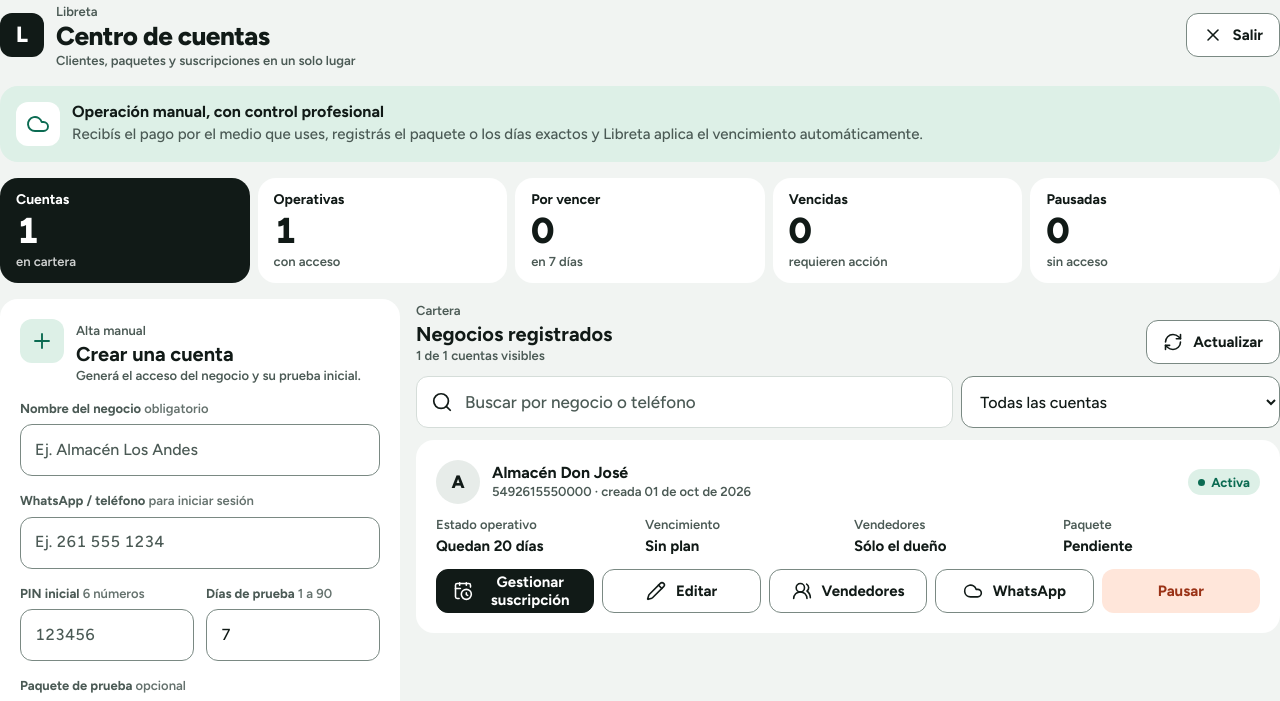
Test: Panel admin · vendedores › agrega un vendedor y muestra su acceso para mandarlo
Click the button "Vendedores": (848, 591) [769,569,927,613]
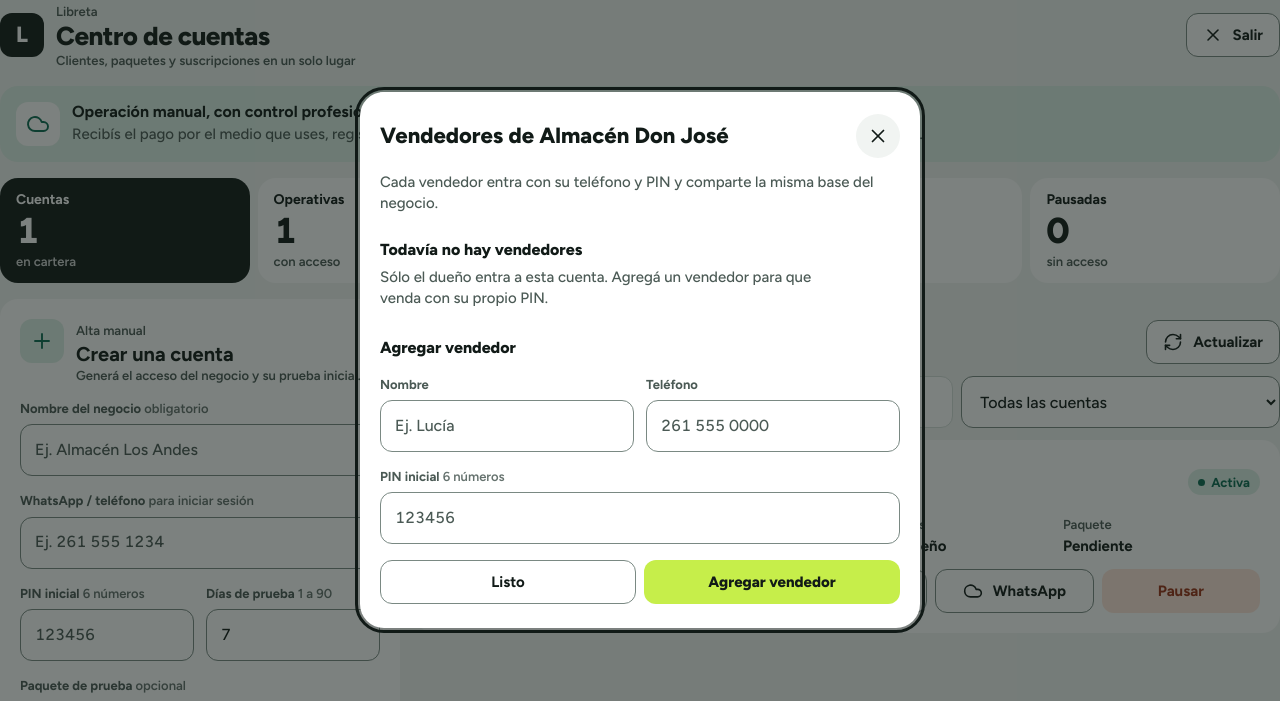
Expected: the text "Sólo el dueño entra" is shown, [380,268,811,307]
In the field labelled "Nombre": (507, 426) [380,400,634,452], type "Lucía"
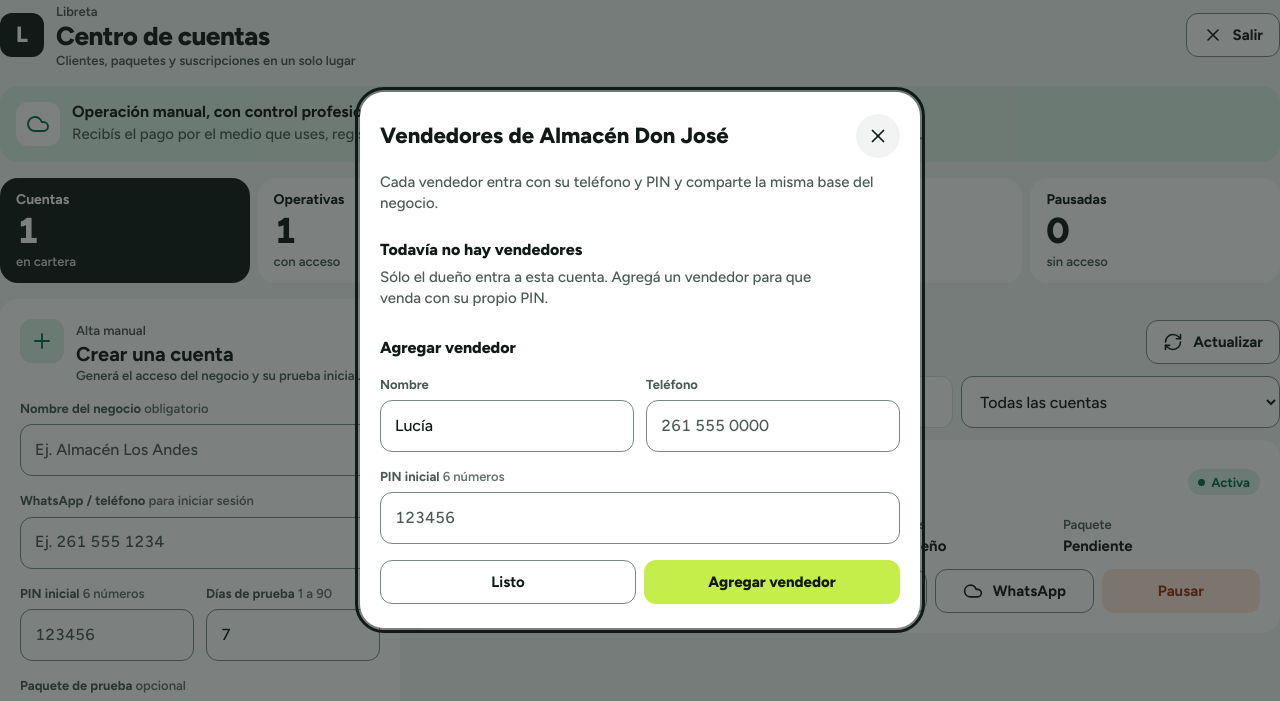
In the field labelled "Teléfono": (773, 426) [646,400,900,452], type "261 555 1111"
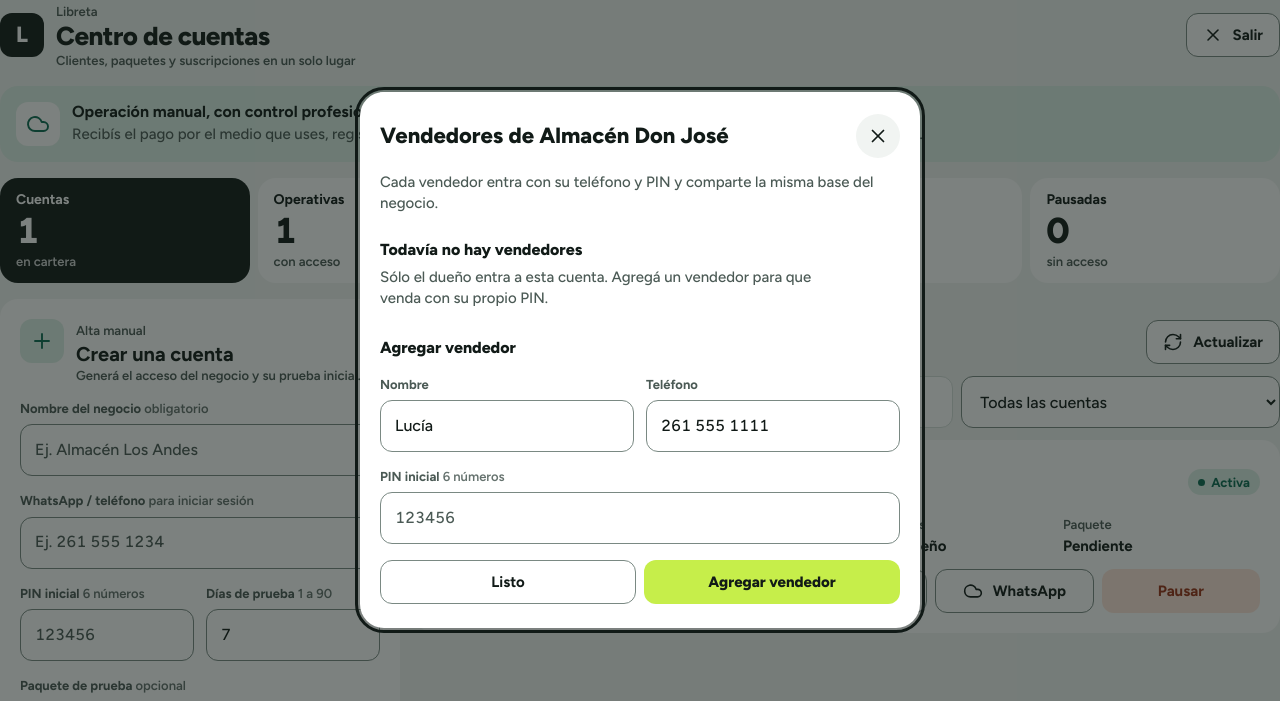
In the password field labelled "PIN inicial 6 números": (640, 518) [380,492,900,544], type "482913"
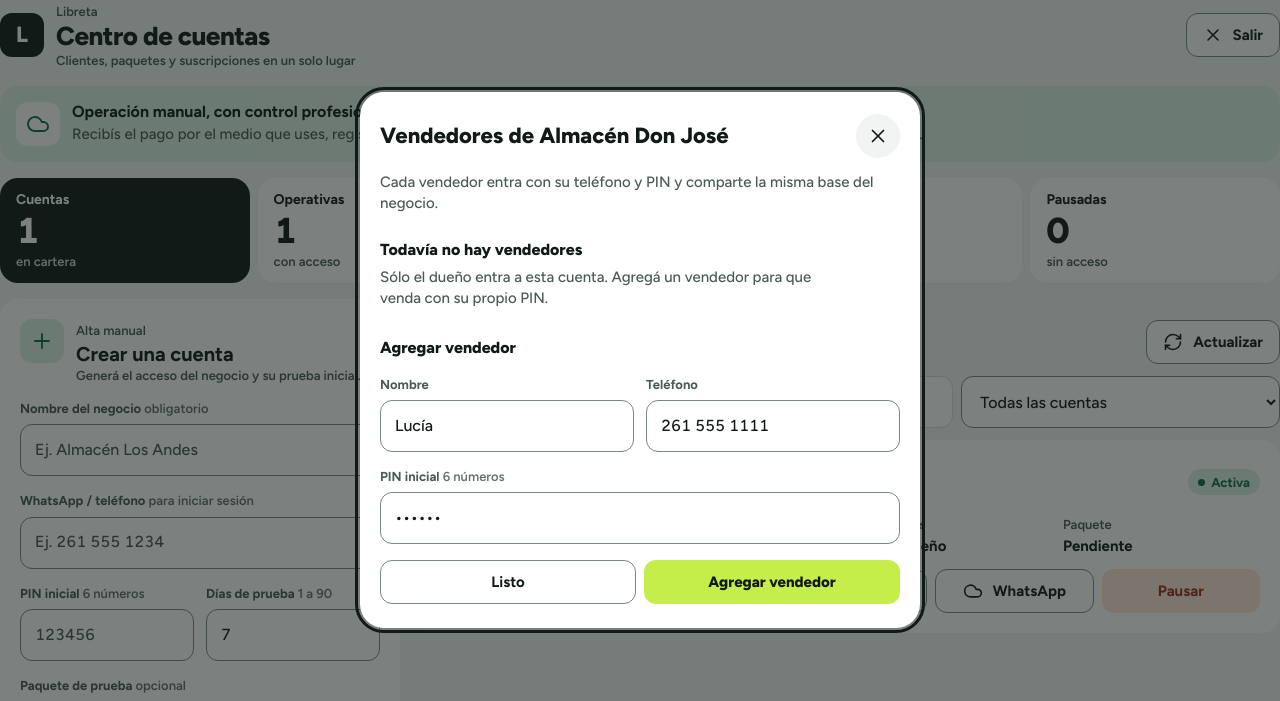
Click the button "Agregar vendedor": (772, 582) [644,560,900,604]
(page scrolled)
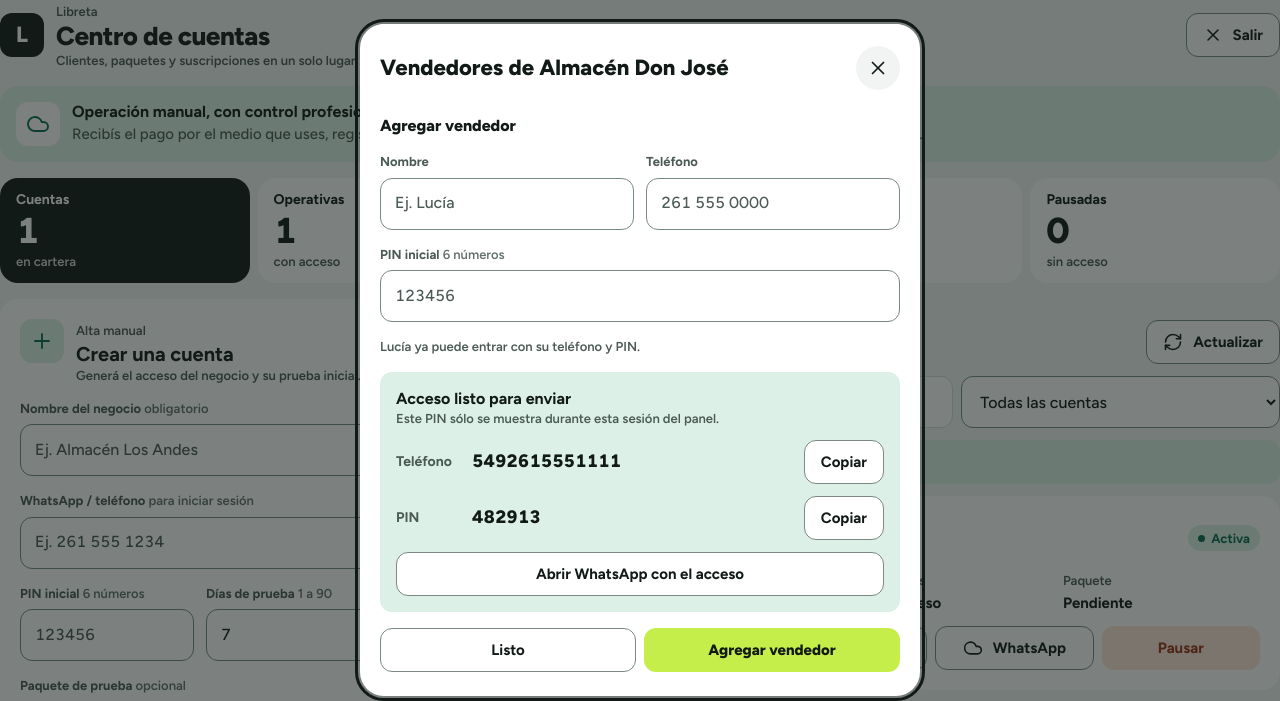
Expected: the text "482913" is shown, [472,506,541,528]
